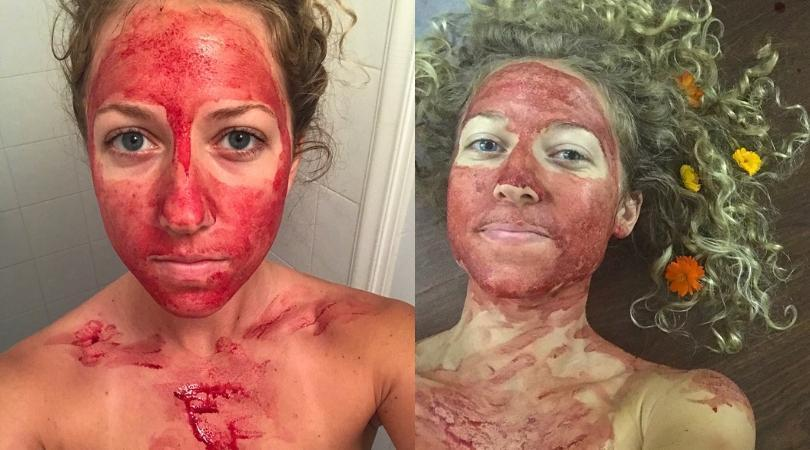Fire: (33, 1, 405, 450), (415, 61, 757, 448)
